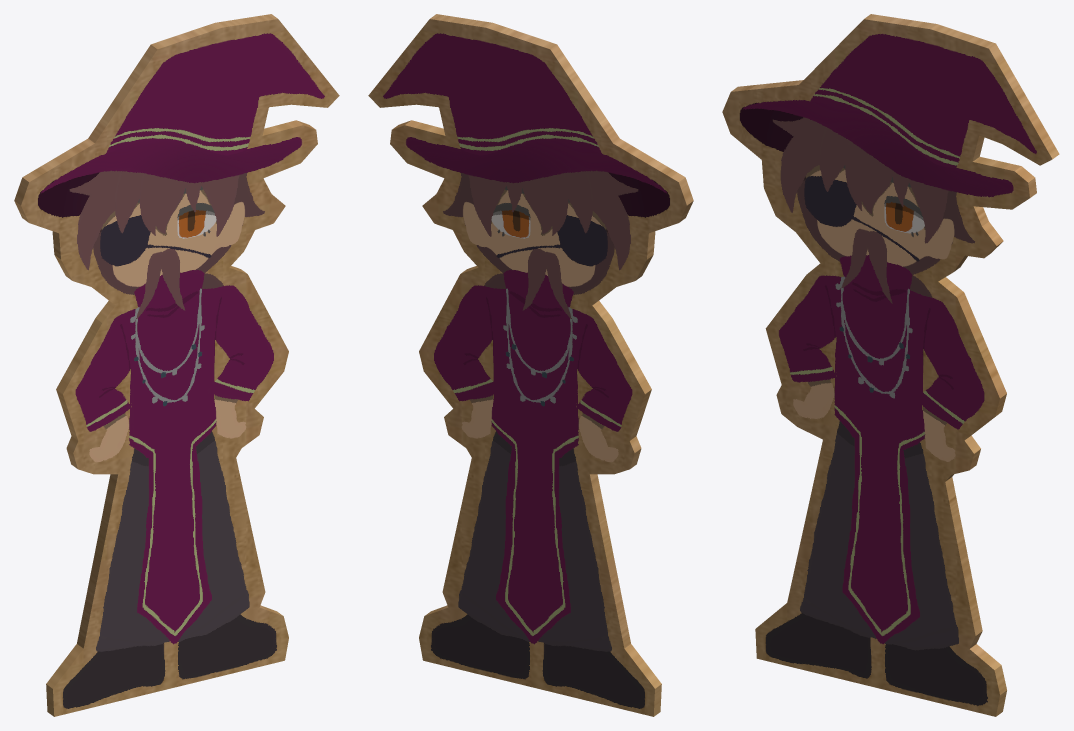
File: NPC_Base_4_Wizard.glb
3 views of the same model, side by side, from view 1: azimuth 30°, elevation 25°; view 2: azimuth 150°, elevation 25°; view 3: azimuth 330°, elevation 25° (orthographic). The views are drawn at different scales.
Parts seen in each view (by area): view 1: NPC_Base_4_Wizard; view 2: NPC_Base_4_Wizard; view 3: NPC_Base_4_Wizard.
Boxes of the visible parts, x1,y1,x2,y2 form: NPC_Base_4_Wizard: (14,14,339,716); NPC_Base_4_Wizard: (368,14,693,716); NPC_Base_4_Wizard: (722,14,1059,716).
Size of the model in its own units: 1.1 by 2.13 by 0.0407.
1 material, 1 textured.
